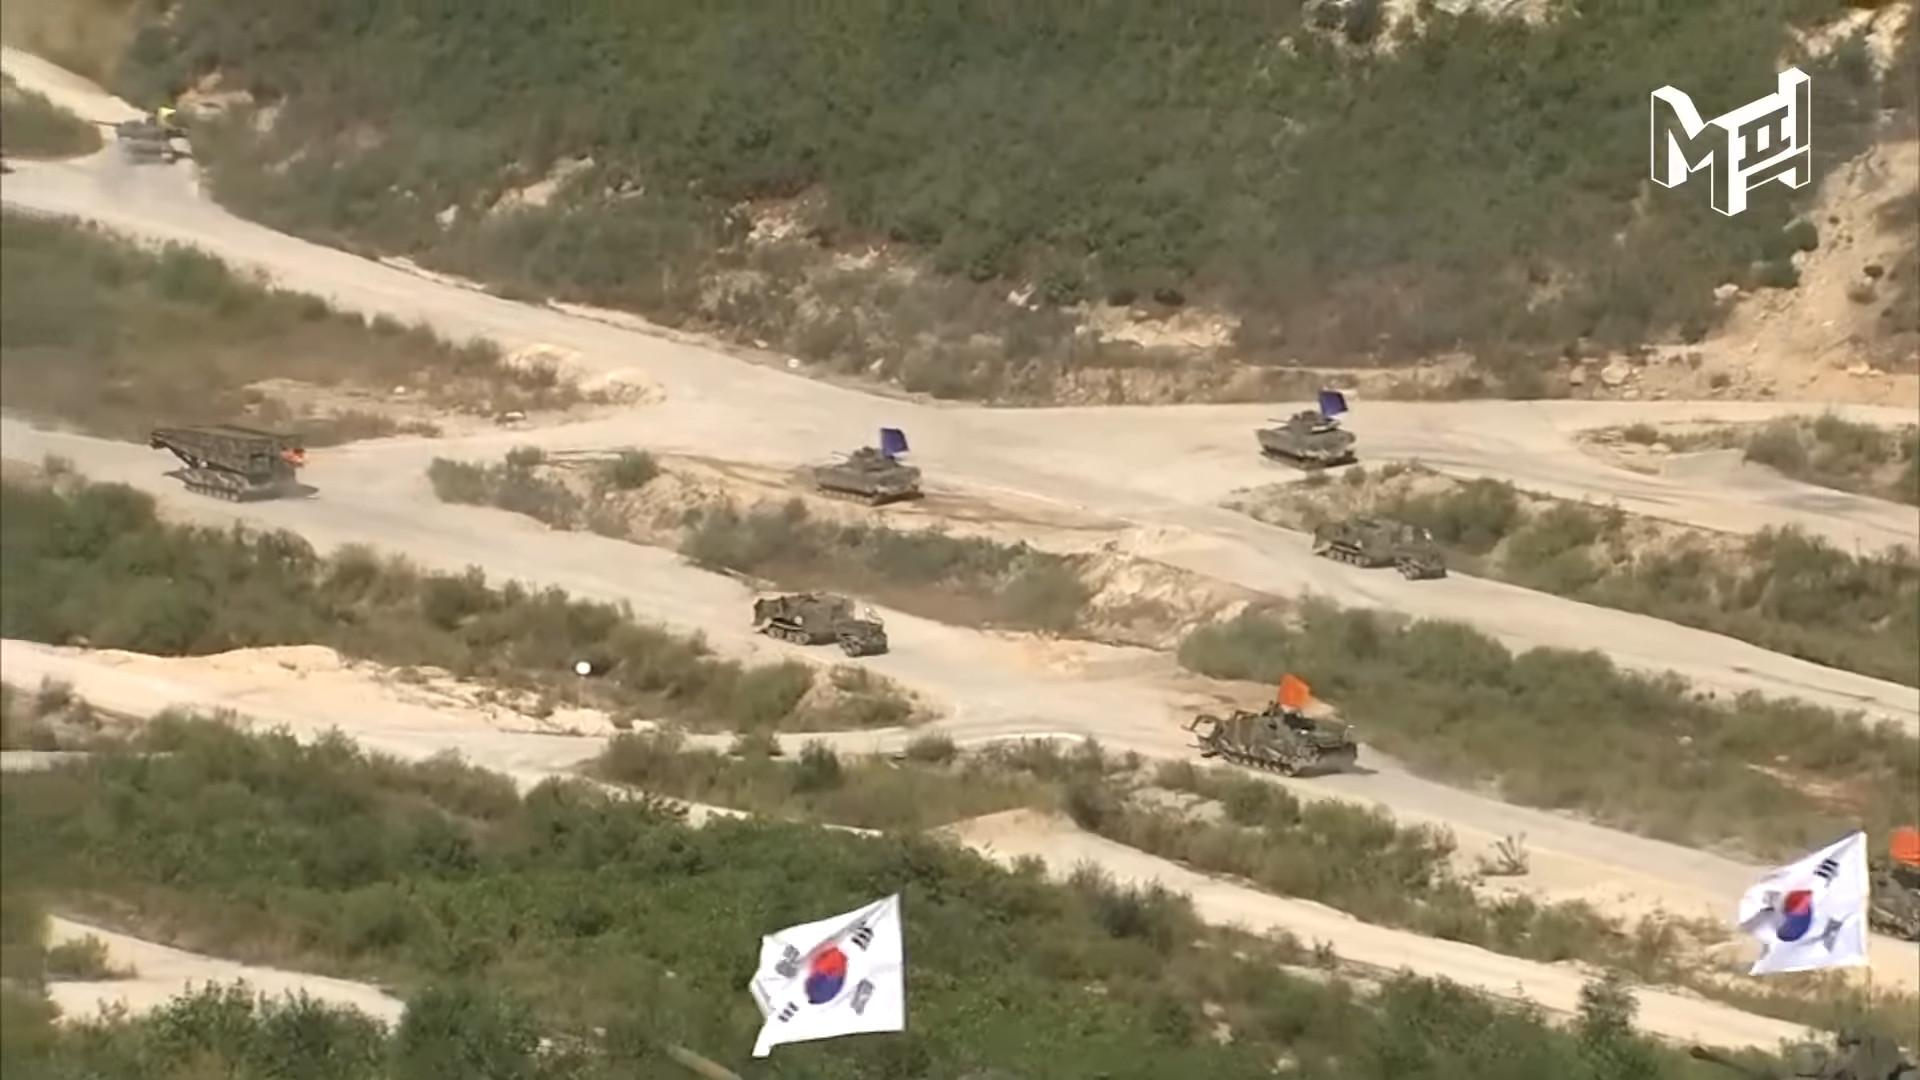tank: (815, 447, 919, 505), (1259, 410, 1358, 471)
